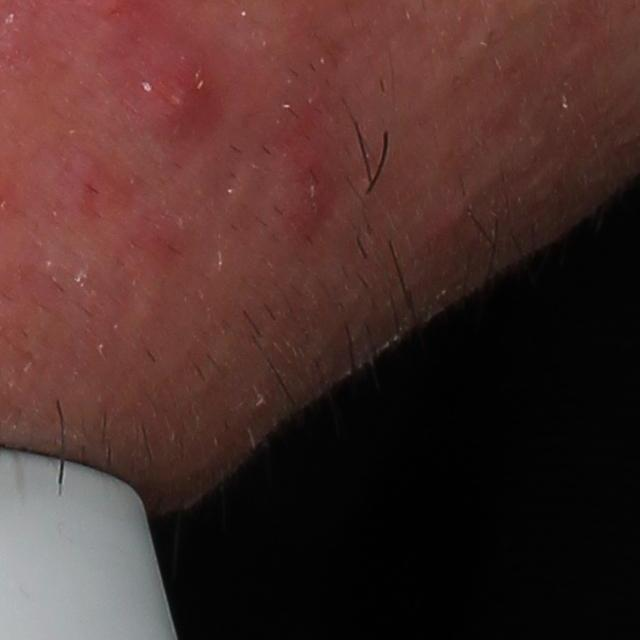papule: (145, 54, 229, 140), (280, 154, 335, 240)
